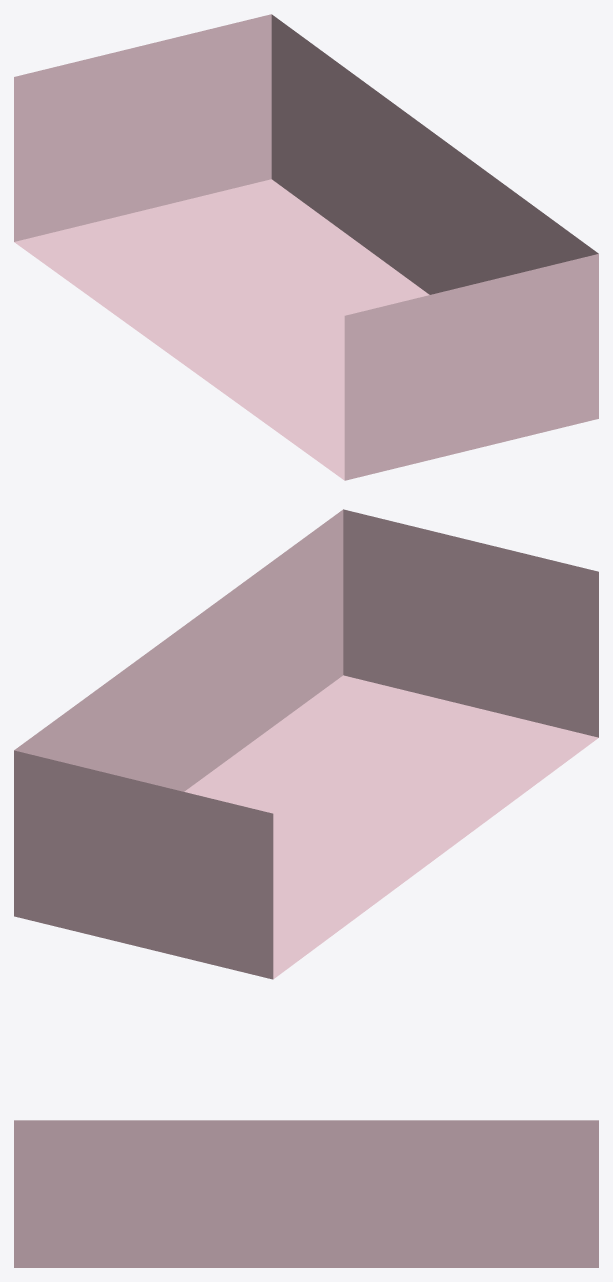
The picture shows the model from 3 angles, top to bottom: view 1: azimuth 30°, elevation 25°; view 2: azimuth 150°, elevation 25°; view 3: azimuth 270°, elevation 25°; orthographic projection. The views are drawn at different scales.
Visible parts, largest first — view 1: node_id4, node_id10, node_id7; view 2: node_id4, node_id10, node_id7; view 3: node_id4, node_id7.
Boxes of the visible parts, x1,y1,x2,y2 form: node_id4: [14, 14, 598, 480]; node_id10: [14, 179, 429, 480]; node_id7: [14, 166, 598, 480]; node_id4: [14, 509, 598, 979]; node_id10: [184, 675, 598, 978]; node_id7: [14, 662, 598, 978]; node_id4: [14, 1120, 598, 1267]; node_id7: [14, 1255, 598, 1267].
Size of the model in its own units: 0.512 by 0.3134 by 1.13.
Materials: 3 (3 with a texture image).
